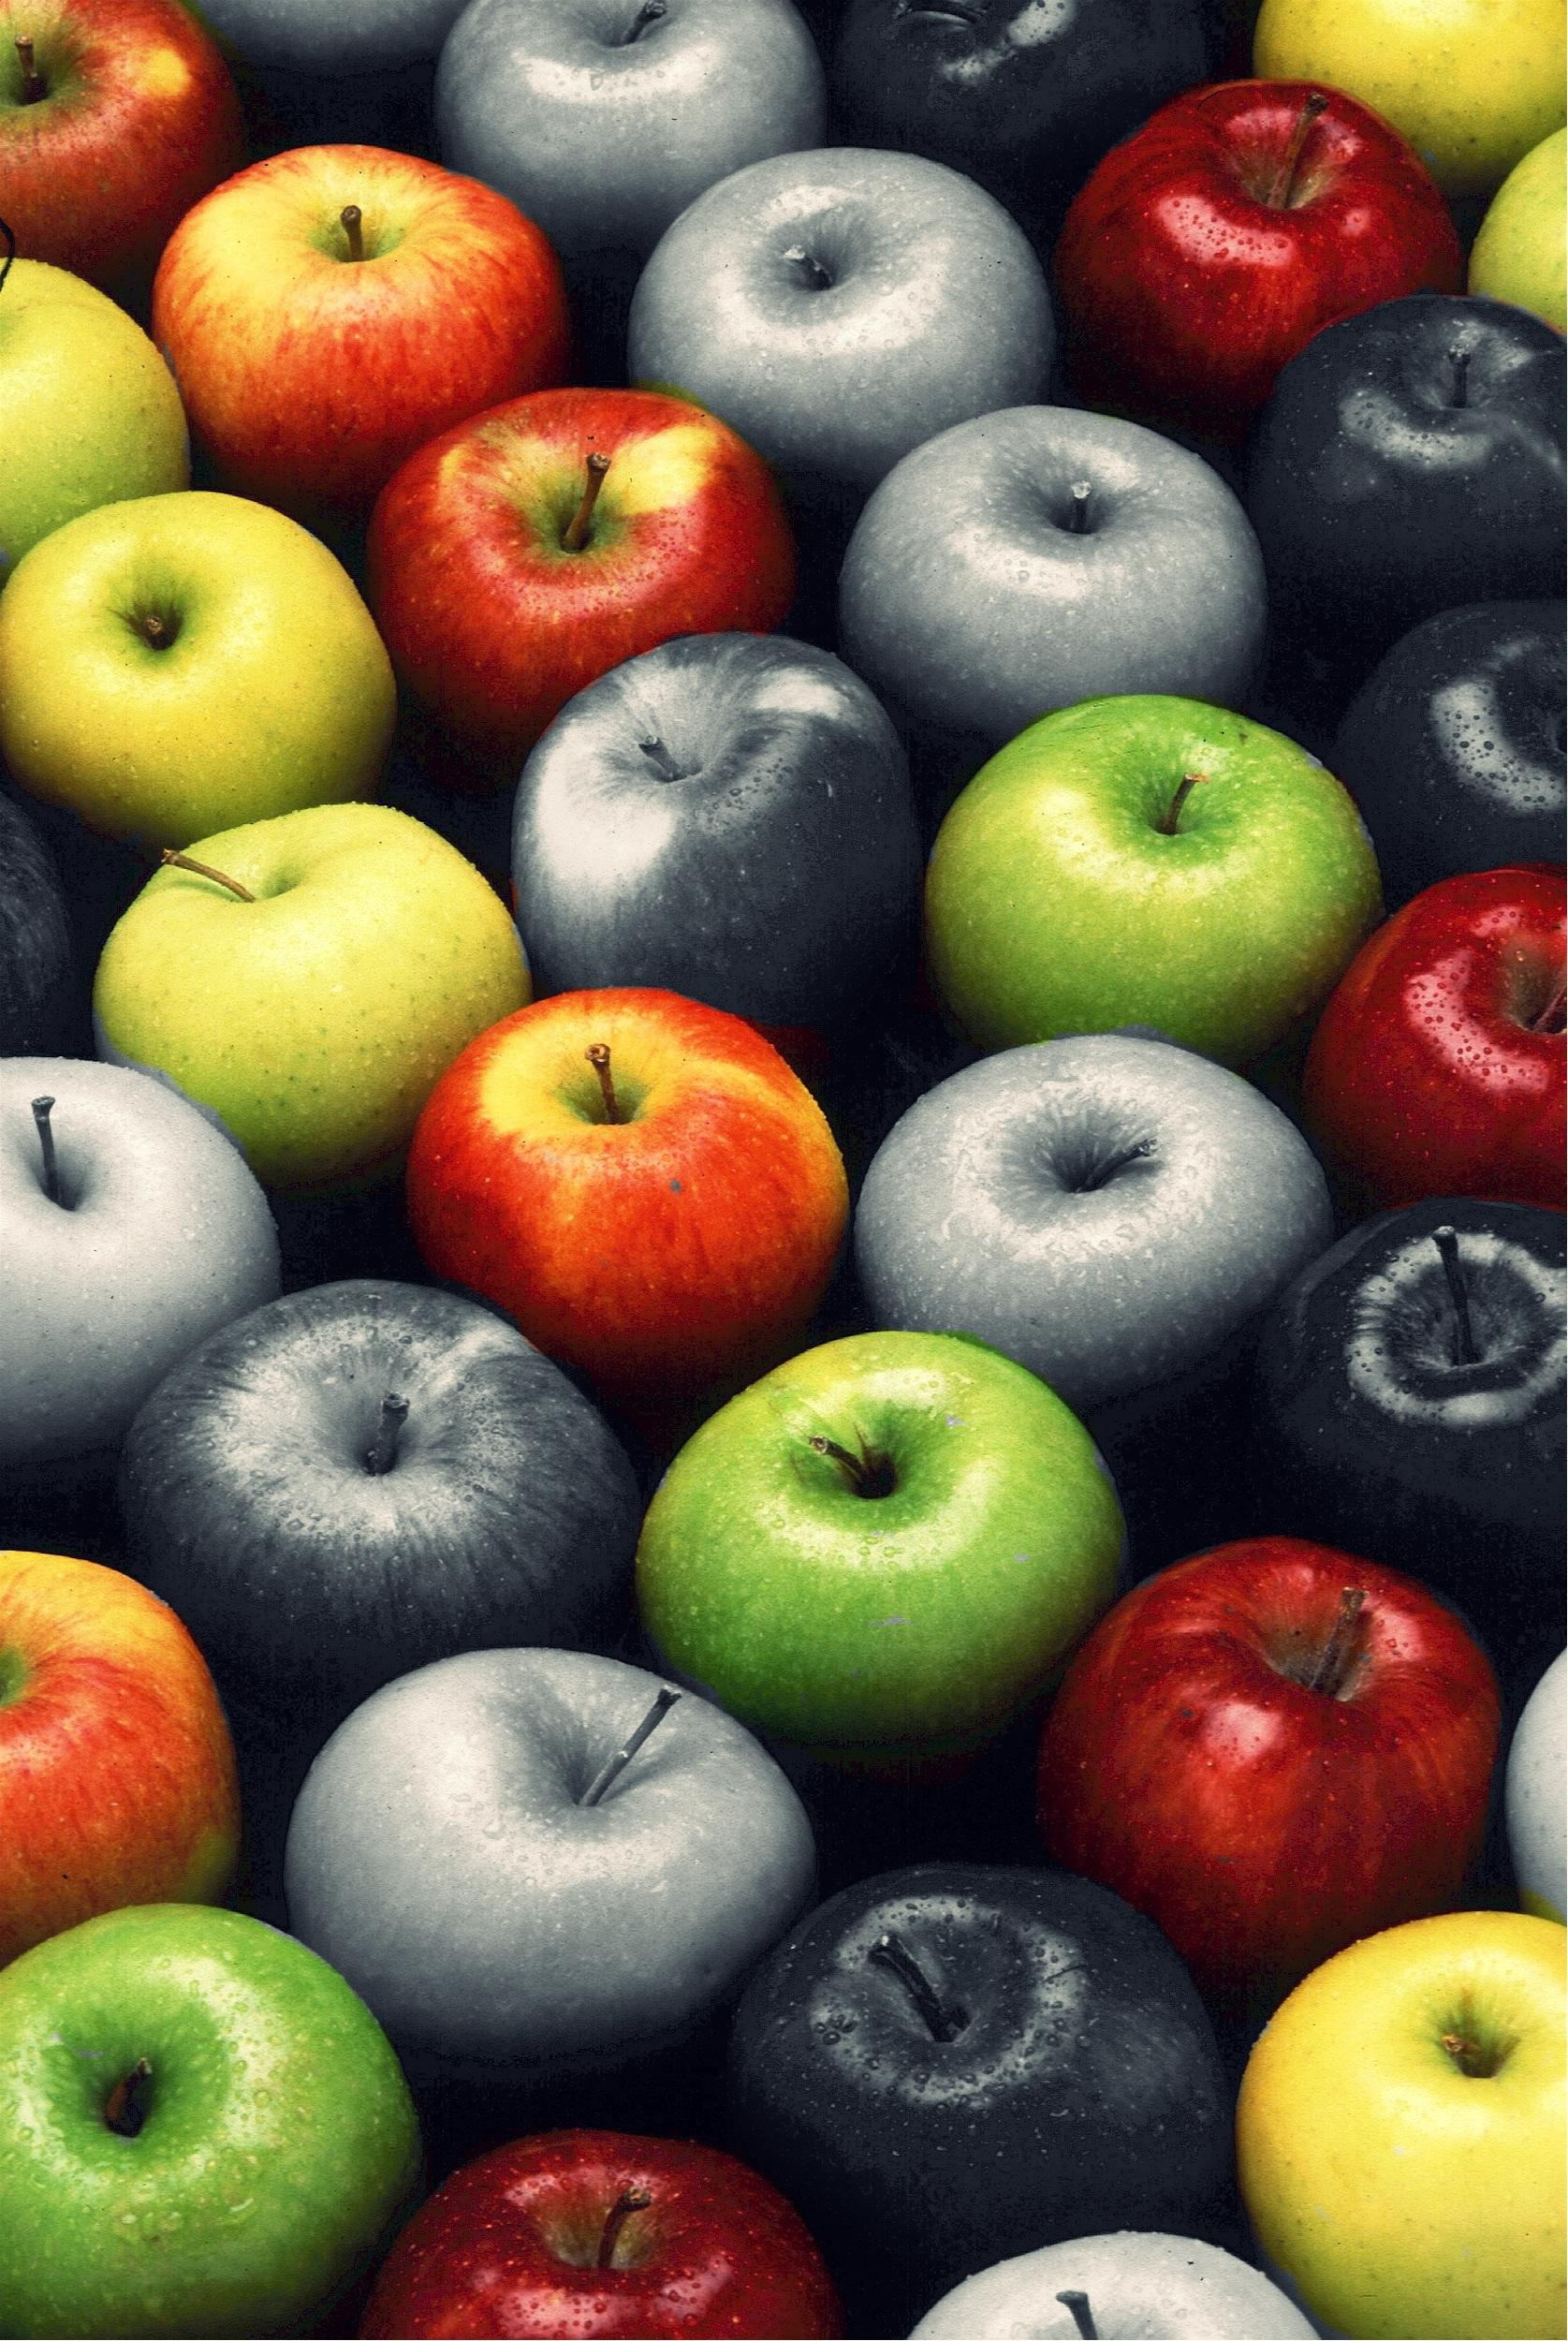grape: (1048, 1513, 1501, 1942), (399, 976, 851, 1384), (324, 355, 793, 672), (1060, 65, 1500, 388), (150, 143, 565, 471), (1304, 868, 1568, 1183)
